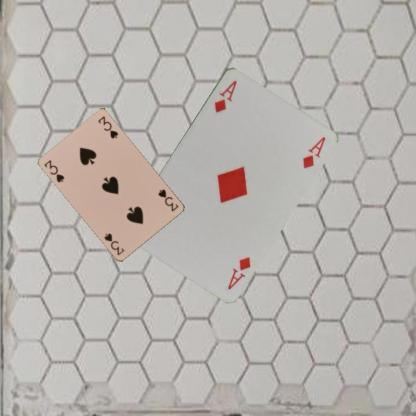3s: (41, 157, 66, 184), (156, 186, 180, 212)
Ad: (225, 254, 252, 290), (212, 77, 238, 114)
